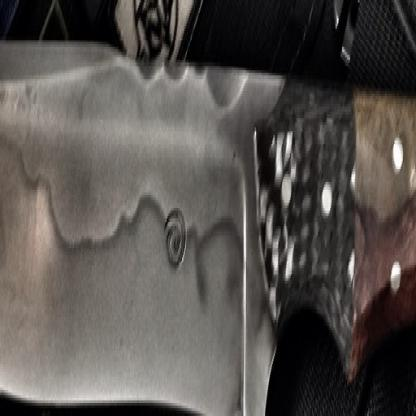knife: (0, 41, 415, 414)
